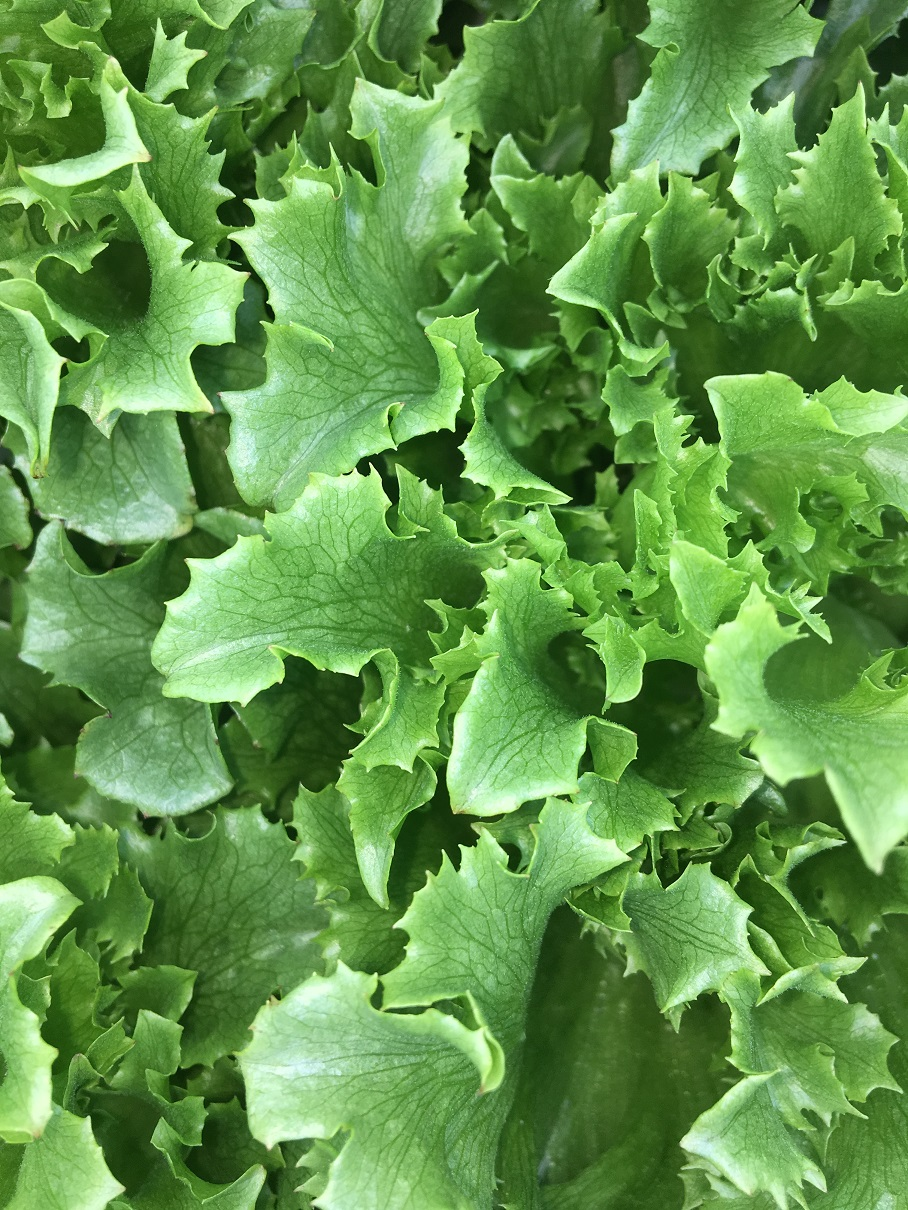tipburn: (250, 977, 293, 1021), (462, 1067, 500, 1111), (201, 371, 239, 410), (21, 1118, 58, 1157), (18, 457, 56, 494), (385, 389, 422, 425), (131, 140, 167, 175), (96, 697, 129, 733), (91, 406, 130, 436), (51, 512, 84, 542), (68, 714, 96, 745), (64, 762, 93, 790), (195, 38, 220, 64), (20, 498, 46, 522), (4, 535, 28, 560)
